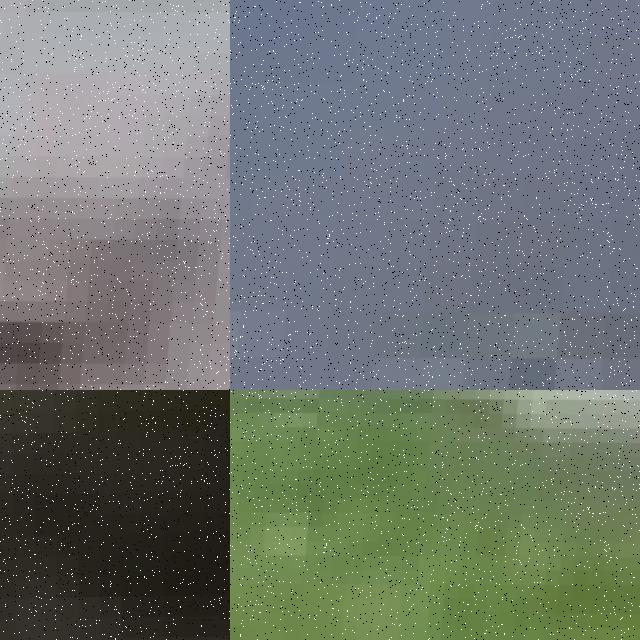drone: (230, 0, 640, 390), (230, 390, 640, 640), (0, 0, 230, 390)
